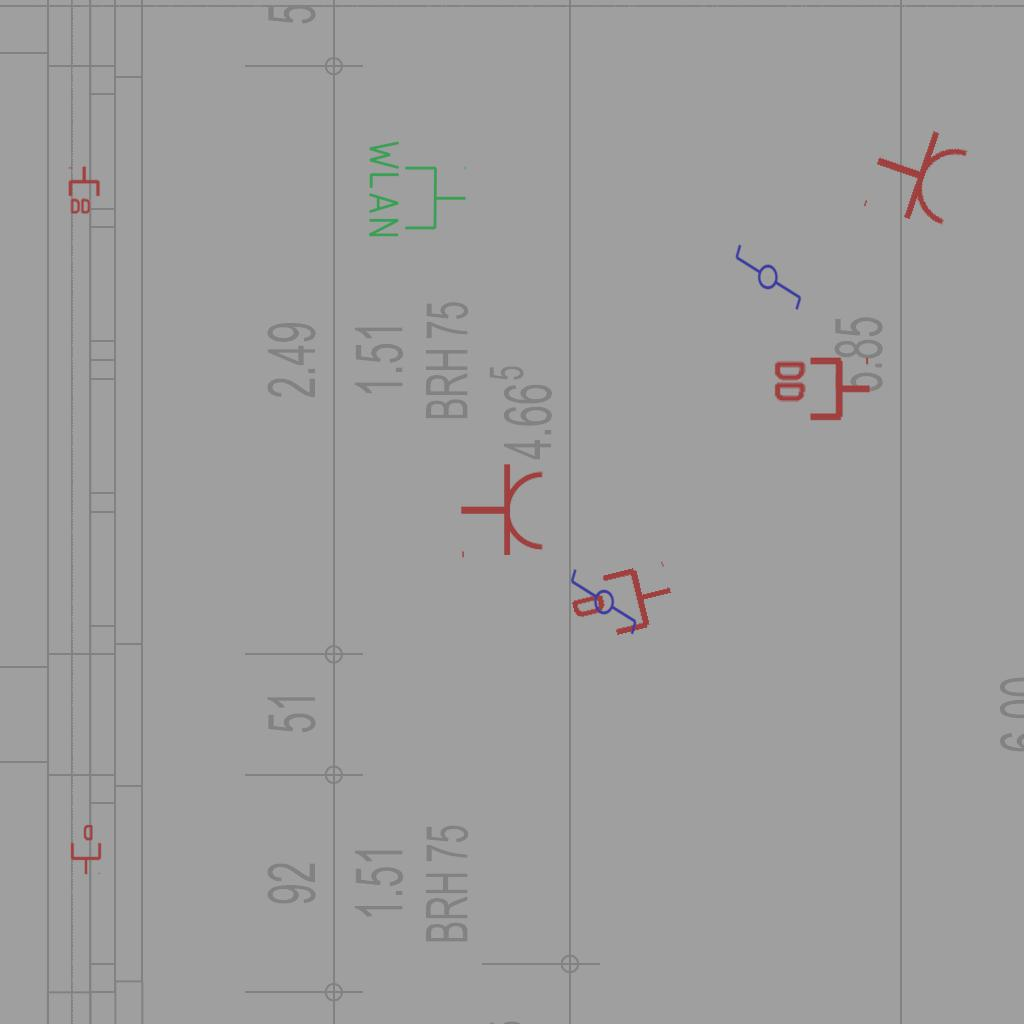Datenanschluss_einfach: (566, 556, 681, 648), (69, 825, 103, 875)
Datenanschluss_zweifach: (770, 356, 873, 425), (68, 165, 102, 216)
Schukosteckdose_einfach: (859, 114, 974, 238), (459, 462, 546, 562)
WLAN: (365, 136, 469, 241)
Wechselschalter: (733, 234, 805, 312), (567, 567, 639, 645)
